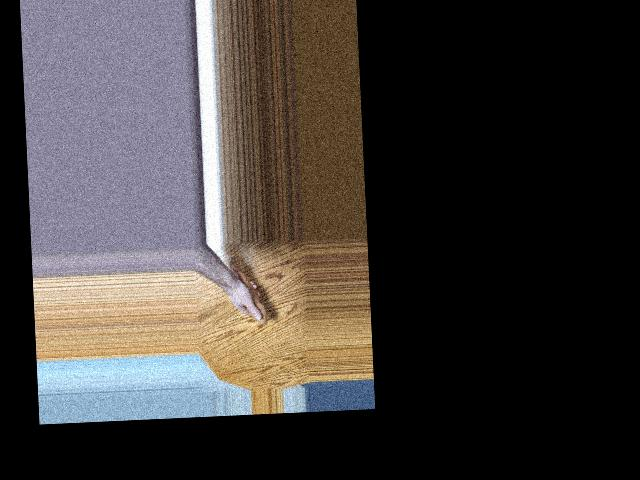sweet_potato: (225, 250, 269, 326)
